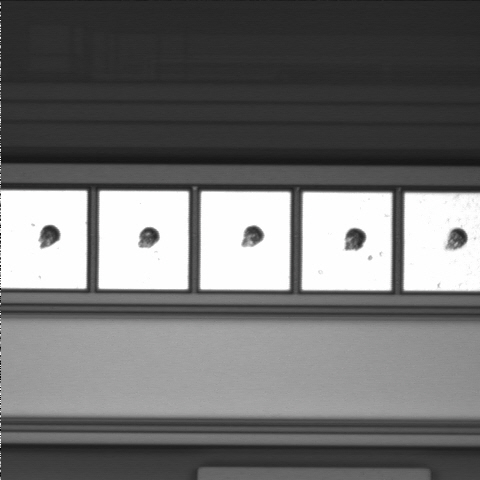pad: (200, 191, 290, 290), (99, 191, 189, 289), (302, 192, 392, 290)
